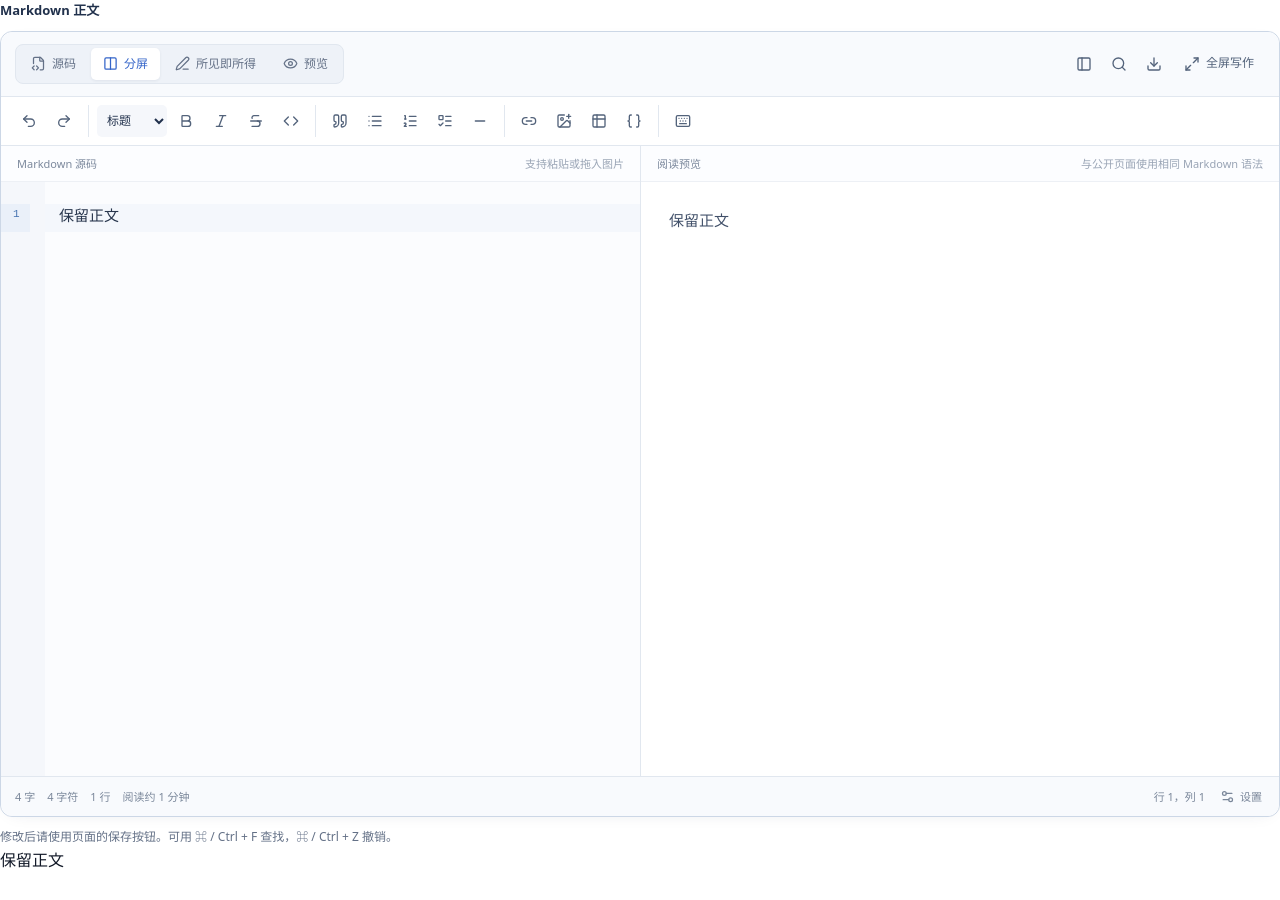
Test case: Markdown writing workspace › rejects unsafe link URLs without changing the document
Click the button named "插入链接" at x=529, y=121, box x1=513 y1=105 x2=545 y2=137
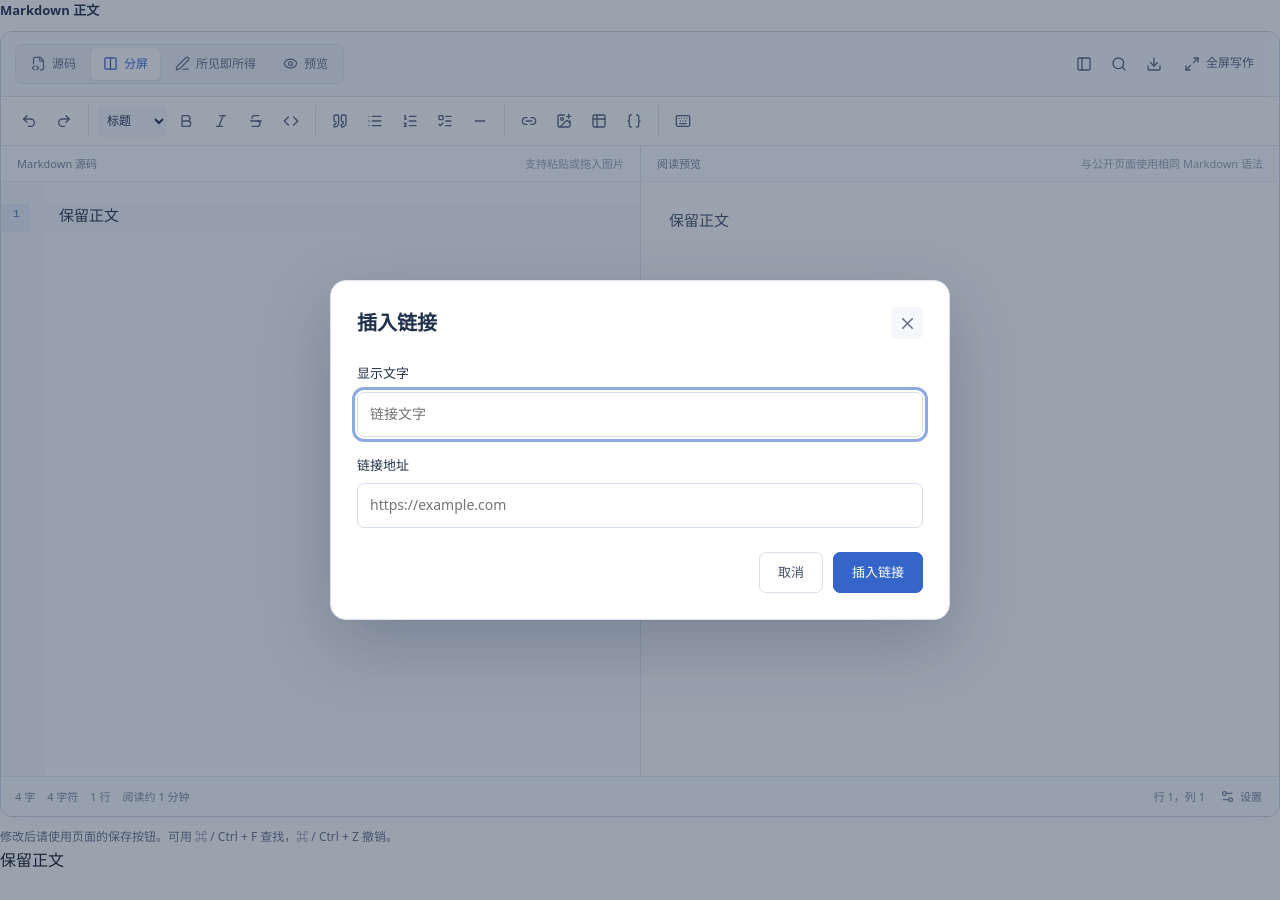
Type "javascript:alert(1)" into the field labelled "链接地址" at x=640, y=506, box x1=357 y1=483 x2=923 y2=528
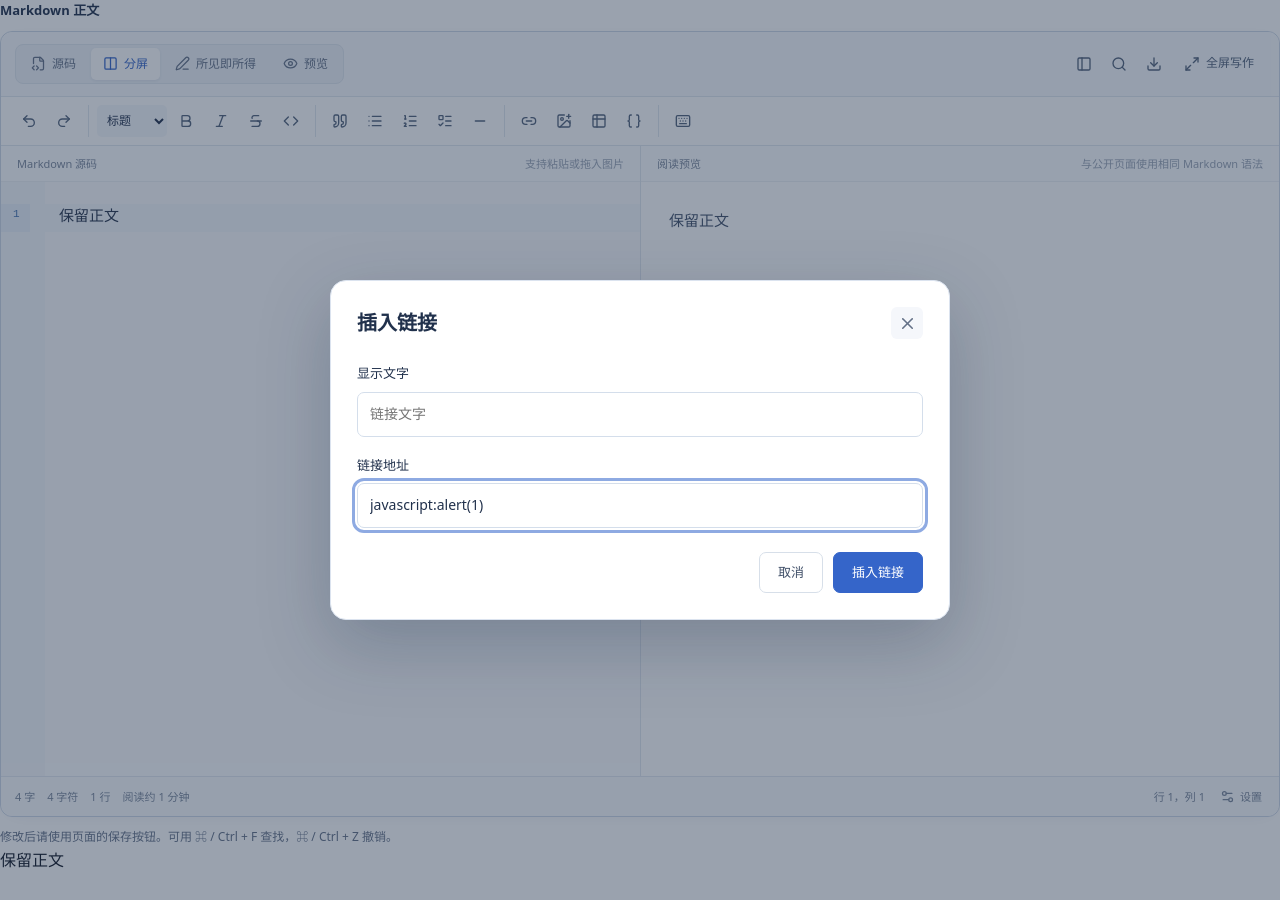
Click the button "插入链接" at x=878, y=572, box x1=833 y1=552 x2=923 y2=593
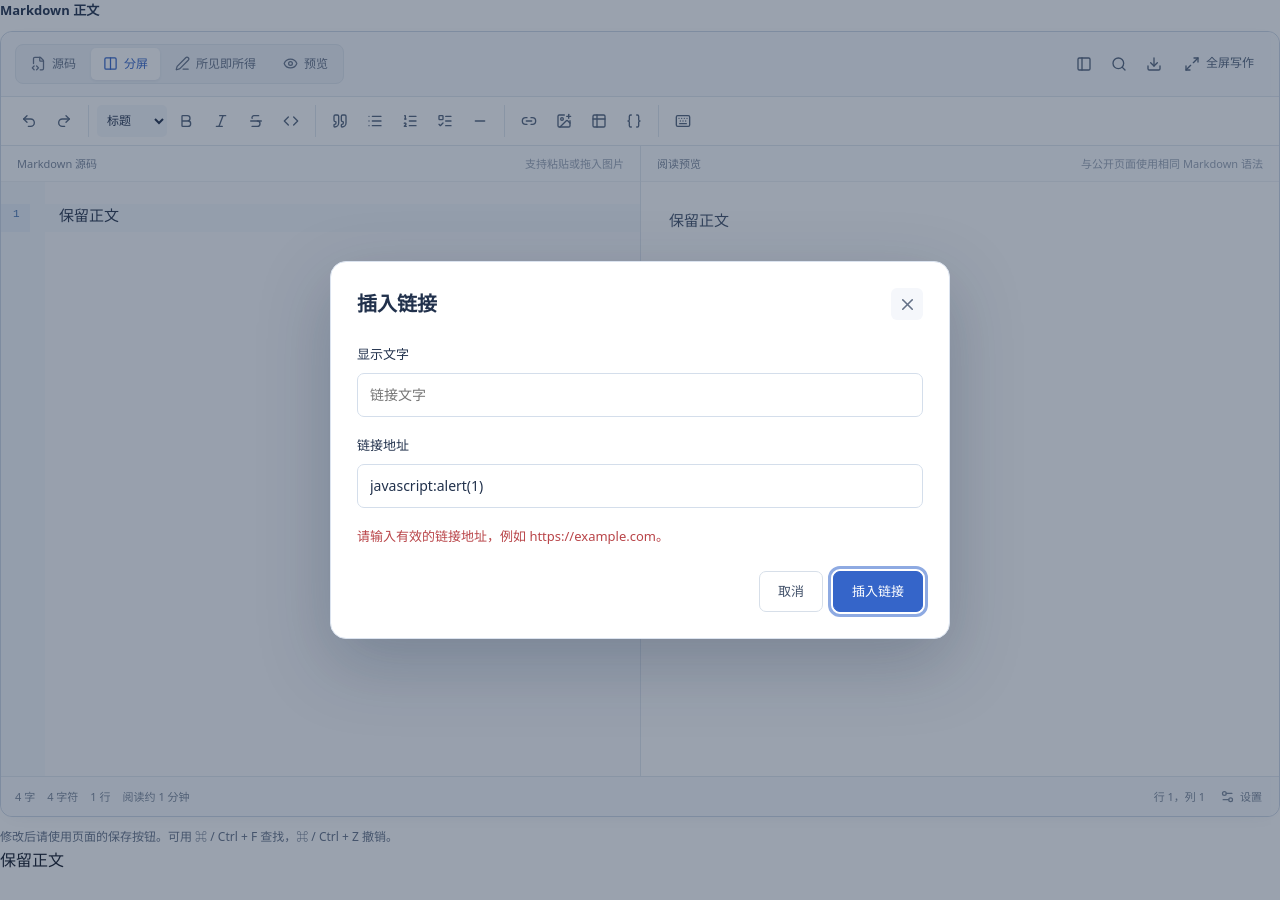
Check: the text with test id "document-value" reads "保留正文", box x1=0 y1=850 x2=64 y2=870
Check: the message shows "有效", box x1=357 y1=527 x2=669 y2=545
